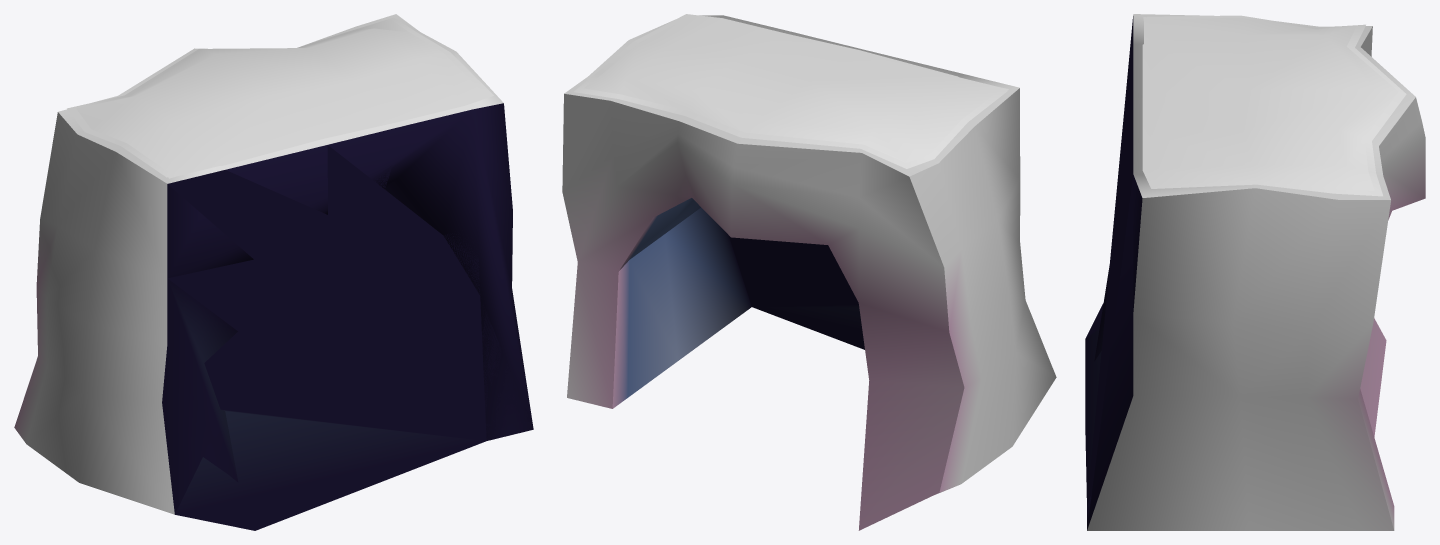
Rendered from BeachArch.fbx.
3 views of the same model, side by side, from view 1: azimuth 30°, elevation 25°; view 2: azimuth 150°, elevation 25°; view 3: azimuth 270°, elevation 25° (orthographic). The views are drawn at different scales.
Visible parts, largest first — view 1: Arch, SandTopper.003; view 2: Arch, SandTopper.003; view 3: Arch, SandTopper.003.
Part boxes in pixels (box(x1,y1,x2,y2)): Arch: box(14, 14, 533, 530); SandTopper.003: box(67, 17, 493, 178); Arch: box(562, 15, 1056, 530); SandTopper.003: box(573, 14, 1008, 168); Arch: box(1085, 14, 1425, 530); SandTopper.003: box(1142, 15, 1406, 196).
Size of the model in its own units: 2185 by 2018 by 1465.
